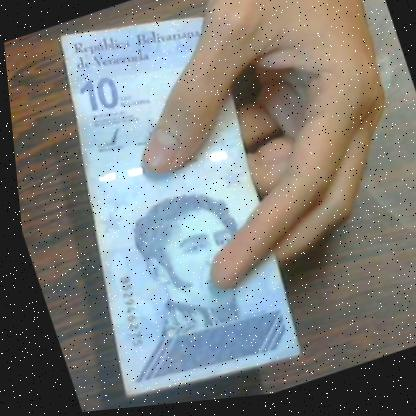ten-front-vef: (7, 0, 317, 416)
